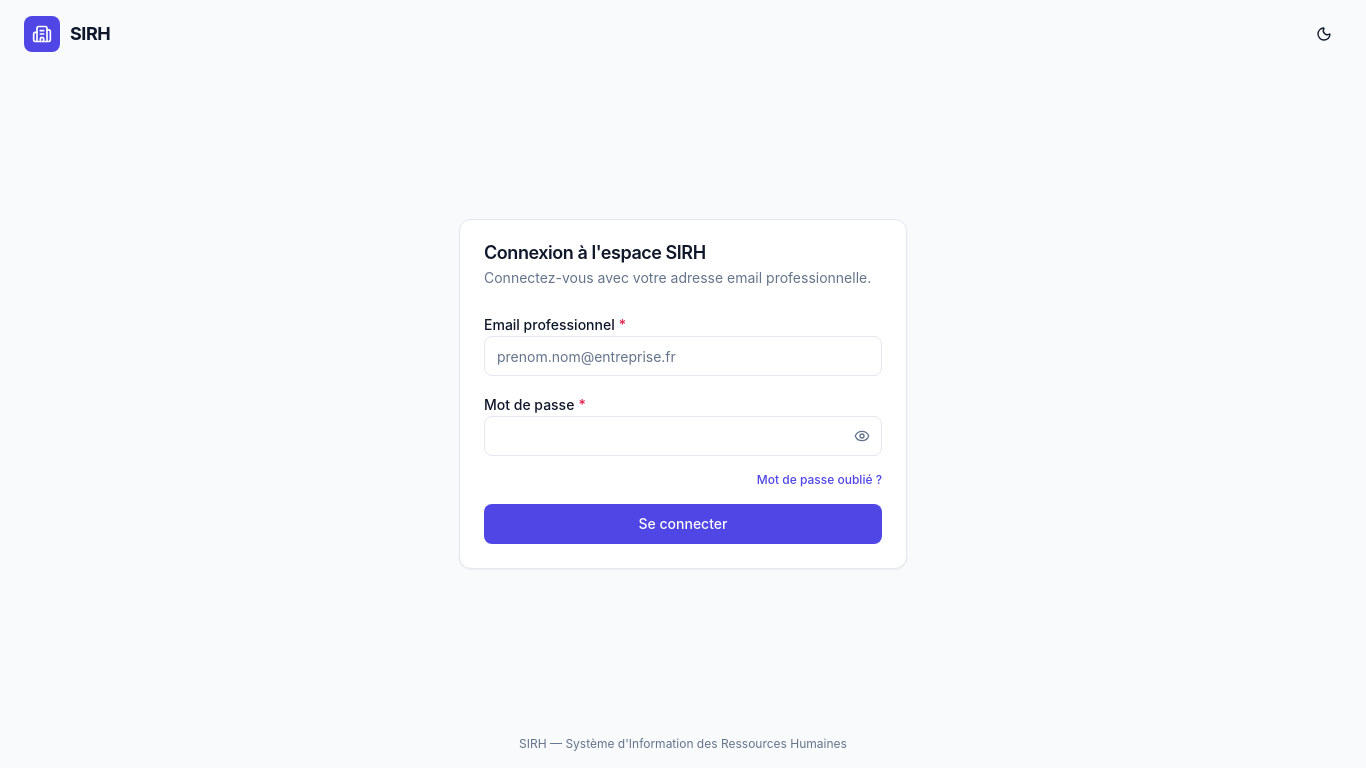
Test: LoginPage integration › logs in, stores accessToken in memory and refreshToken in sessionStorage, and redirects to /dashboard
Type "employe.rh@nova-conseil.fr" into the field labelled "Email professionnel*".
click(683, 356); type("employe.rh@nova-conseil.fr")  # box [484,336,882,376]
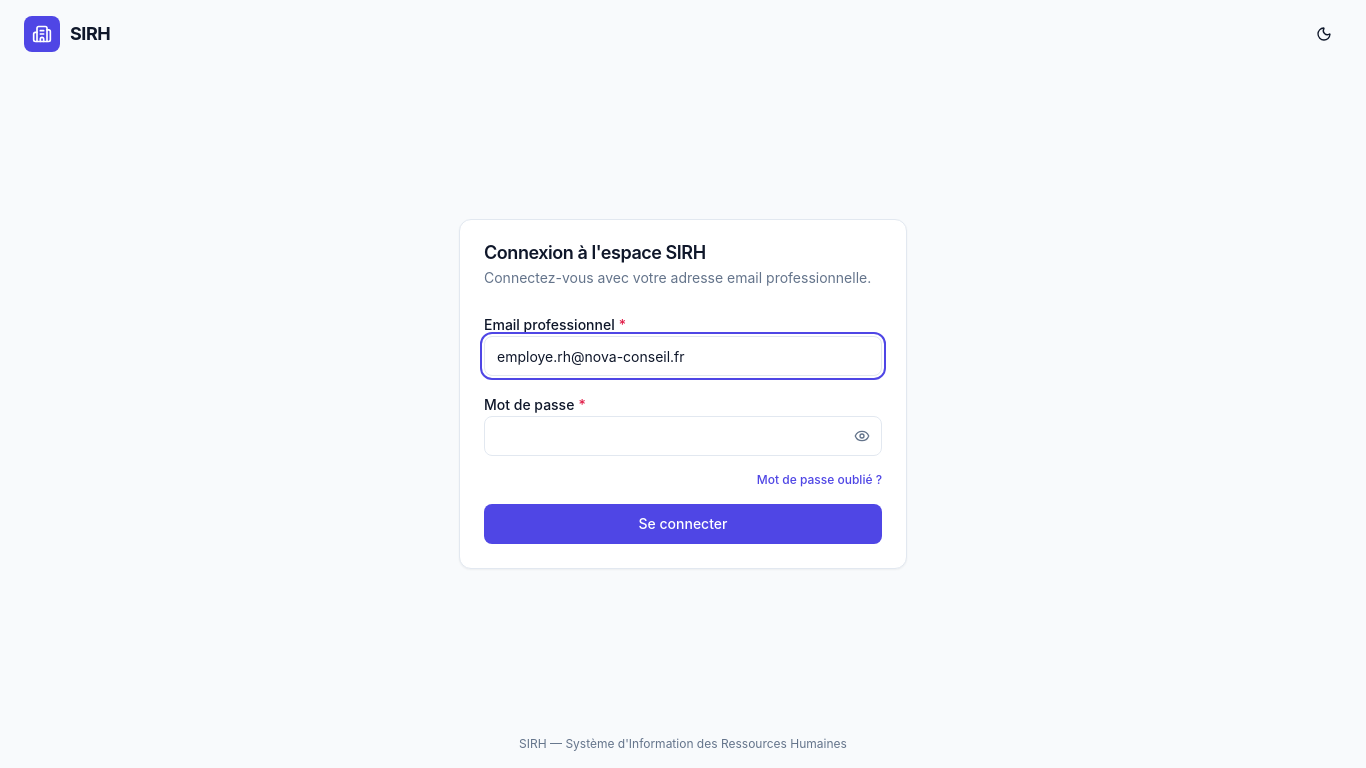
Type "SirhDemo123!" into the password field labelled "Mot de passe*".
click(683, 436); type("SirhDemo123!")  # box [484,416,882,456]
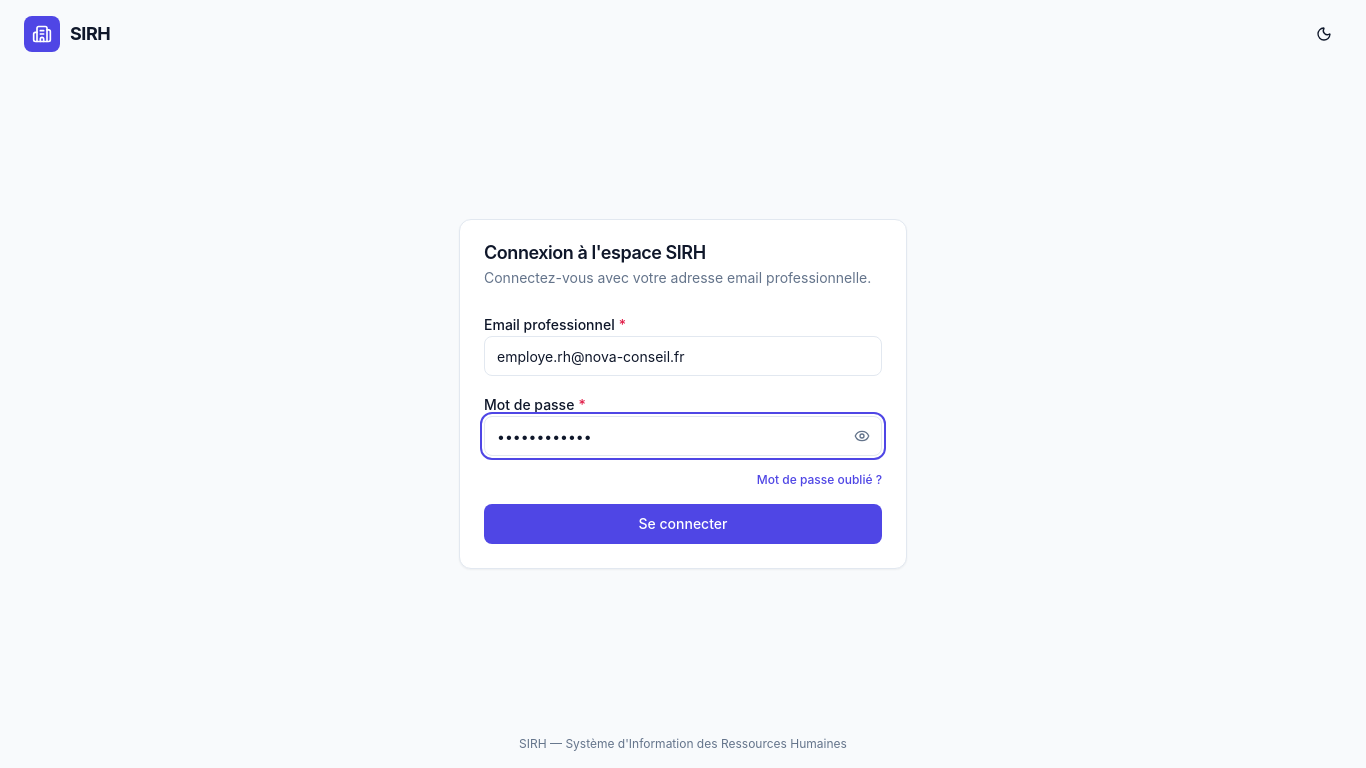
Click the button "Se connecter".
click(683, 524)  # box [484,504,882,544]
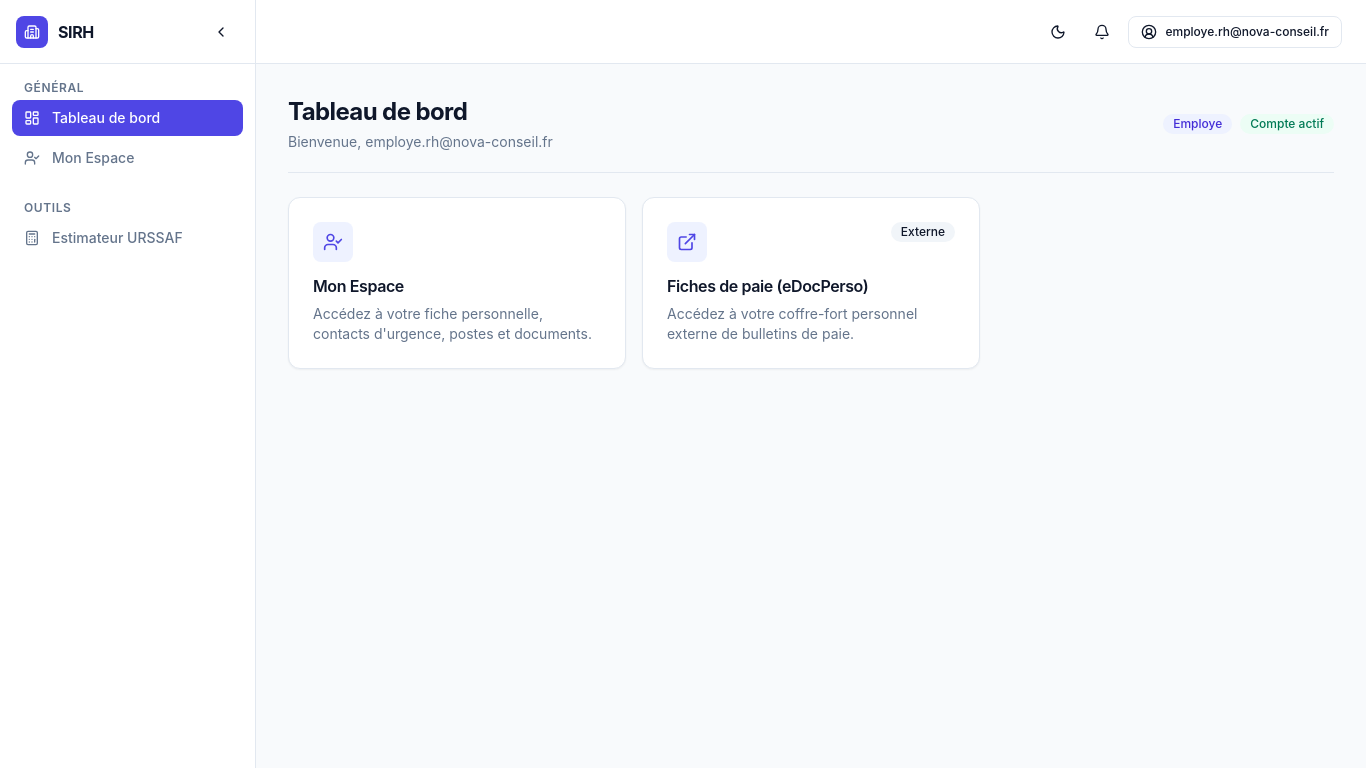
Result: the heading "Tableau de bord" is shown at [288,97,467,126]
